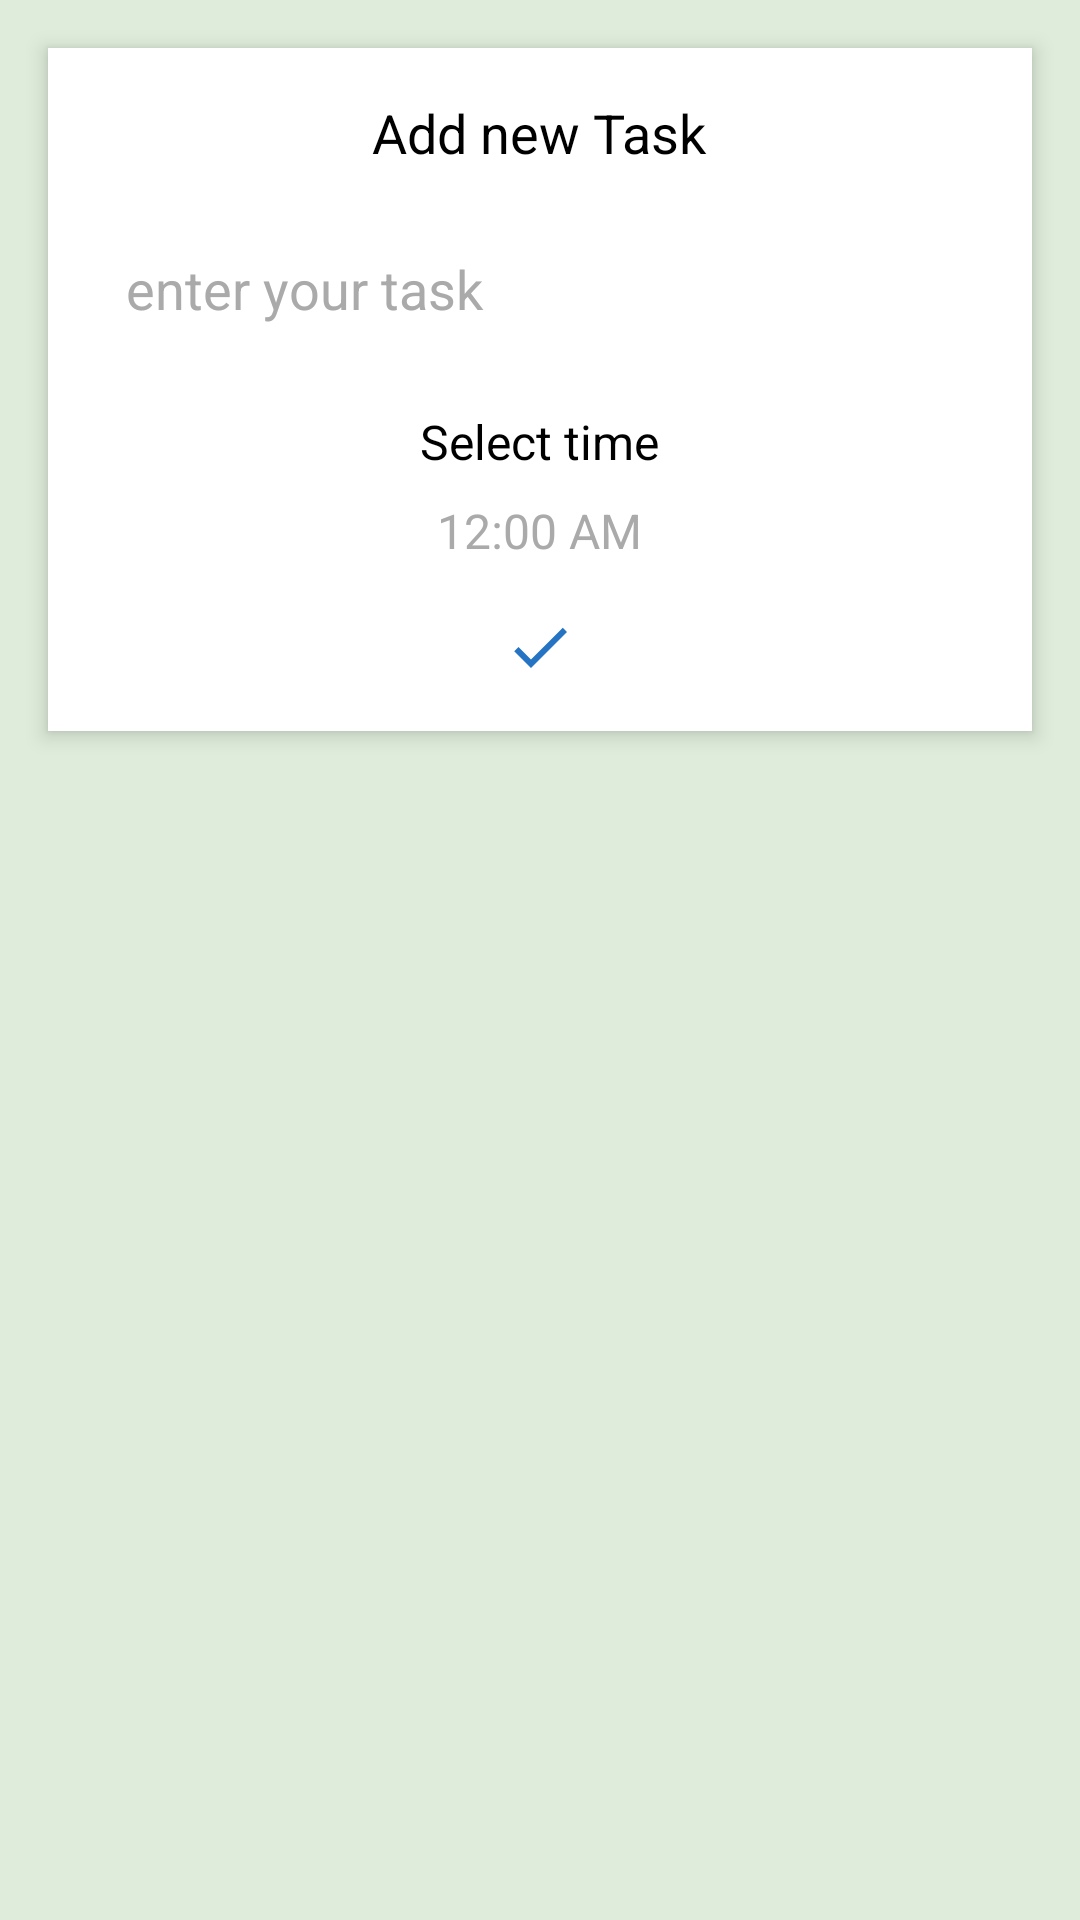

Icon click points for this 1080 x 1920 phone screenshot, format [x,y]:
Submit Task: [540,648]
